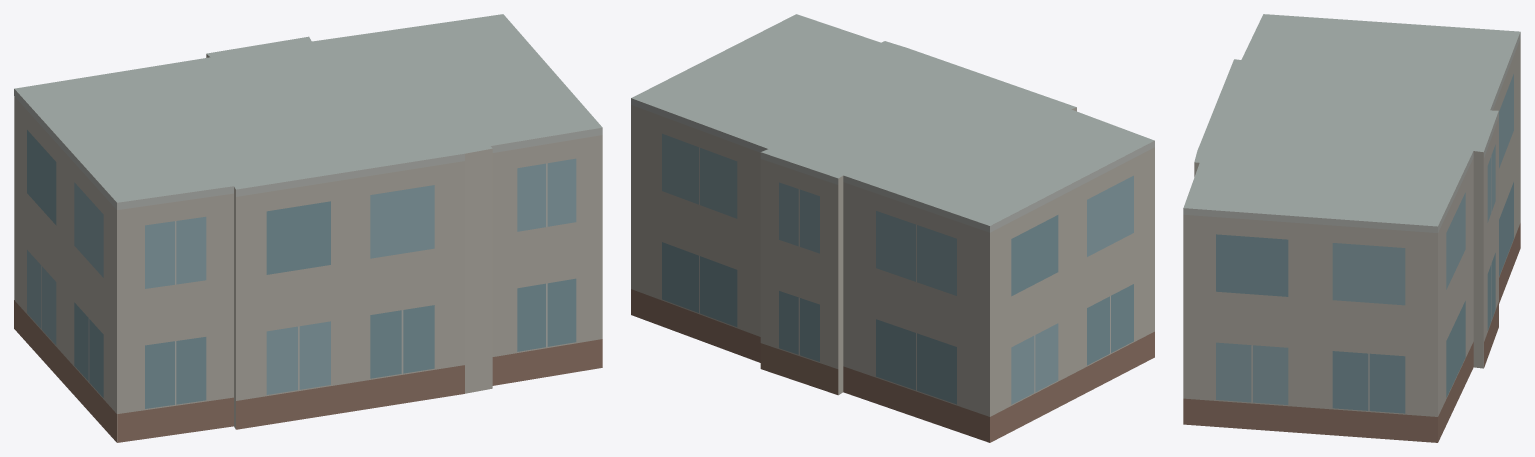
File: survey-upis-32623876.glb
3 renders of one model, left to right at view 1: azimuth 30°, elevation 25°; view 2: azimuth 150°, elevation 25°; view 3: azimuth 270°, elevation 25°, orthographic. The views are drawn at different scales.
Parts seen in each view (by area): view 1: survey-upis-32623876.tmp; view 2: survey-upis-32623876.tmp; view 3: survey-upis-32623876.tmp.
Boxes of the visible parts, x1,y1,x2,y2 form: survey-upis-32623876.tmp: [14, 14, 602, 442]; survey-upis-32623876.tmp: [631, 14, 1154, 442]; survey-upis-32623876.tmp: [1183, 14, 1520, 442].
Size of the model in its own units: 16.75 by 7.95 by 11.24.
